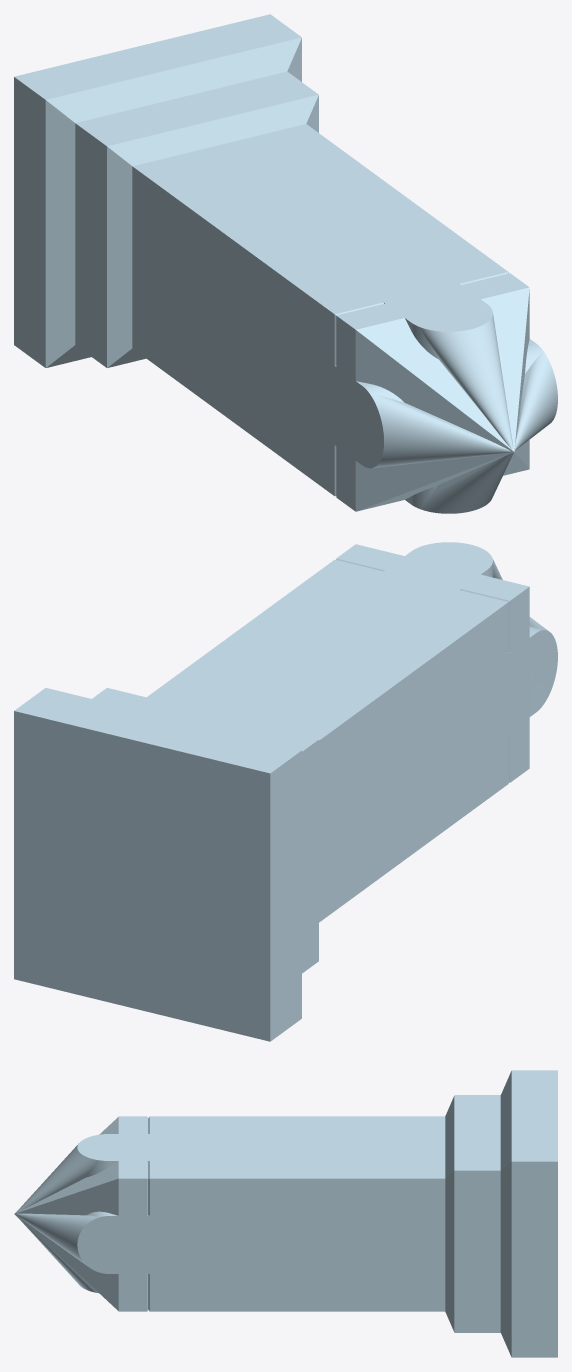
3 renders of one model, top to bottom at view 1: azimuth 30°, elevation 25°; view 2: azimuth 150°, elevation 25°; view 3: azimuth 270°, elevation 25°, orthographic. The views are drawn at different scales.
Visible parts, largest first — view 1: PA-473-F_LOD0; view 2: PA-473-F_LOD0; view 3: PA-473-F_LOD0.
Boxes of the visible parts, bbox=[...] form: PA-473-F_LOD0: bbox=[14, 14, 557, 513]; PA-473-F_LOD0: bbox=[14, 542, 557, 1041]; PA-473-F_LOD0: bbox=[14, 1070, 557, 1357].
Size of what is drawn, in the model's own units: 35.56 by 35.56 by 89.43.
